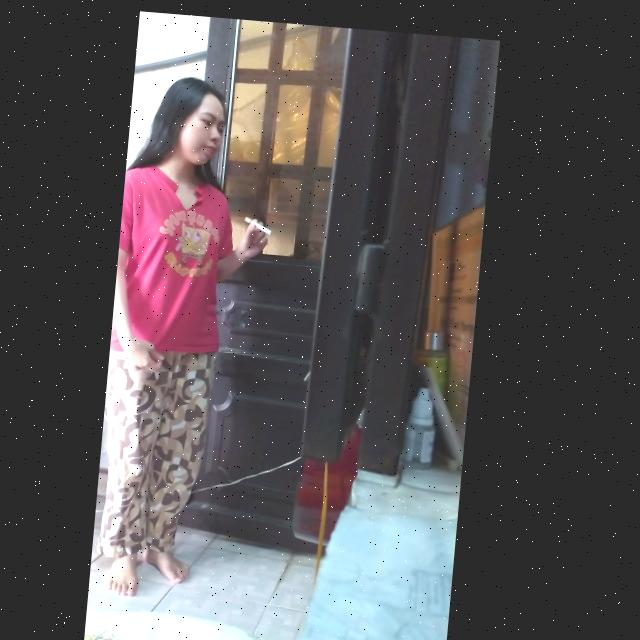cigarette: (247, 213, 276, 231)
